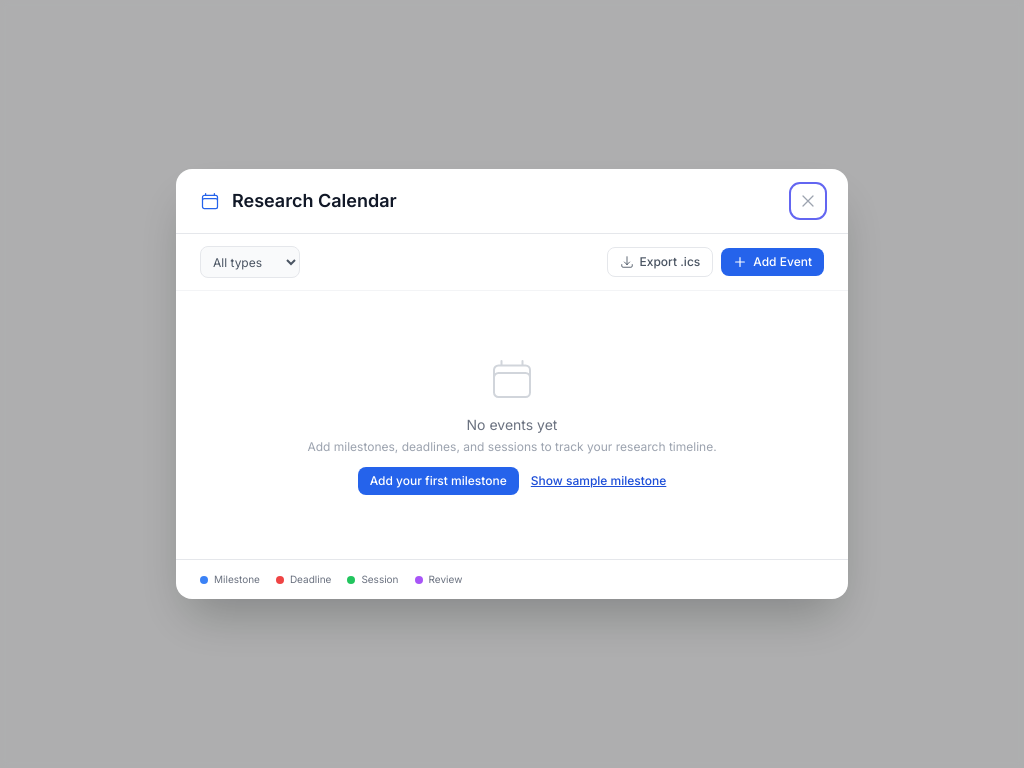
it: CalendarPanel first-run and recovery states › offers a milestone action and reversible unsaved sample when empty
Expected: the text "No events yet" is shown, [466,416,557,433]
Click the button "Show sample milestone" at coordinates (599, 481), box [531,473,666,489]
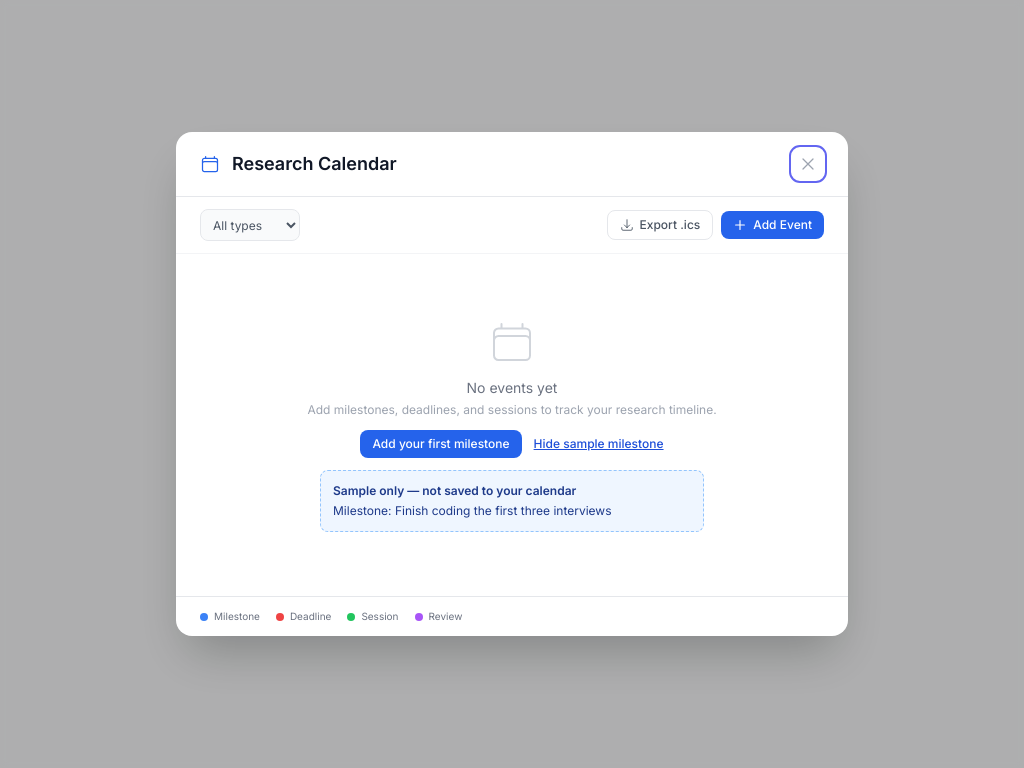
Now the text "Sample only — not saved to your calendar" is shown, box [333,483,576,498]
Click the button "Hide sample milestone" at coordinates (599, 444), box [534,436,664,452]
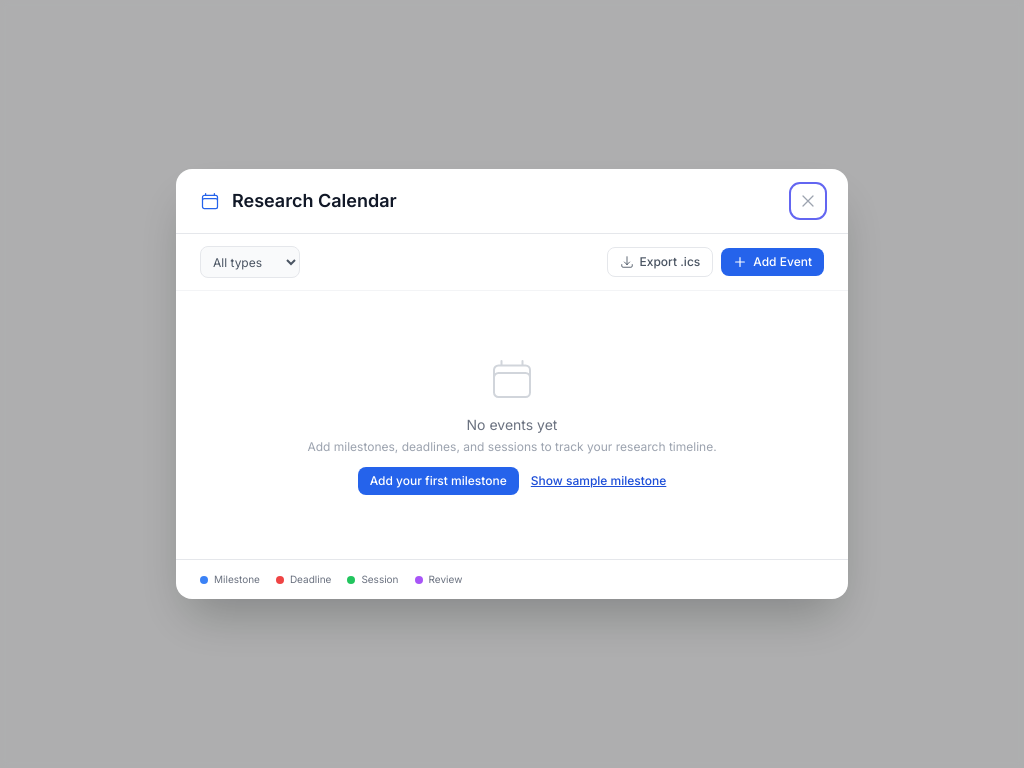
Now the text "Sample only — not saved to your calendar" is gone
Click the button "Add your first milestone" at coordinates (438, 481), box [358,467,519,495]
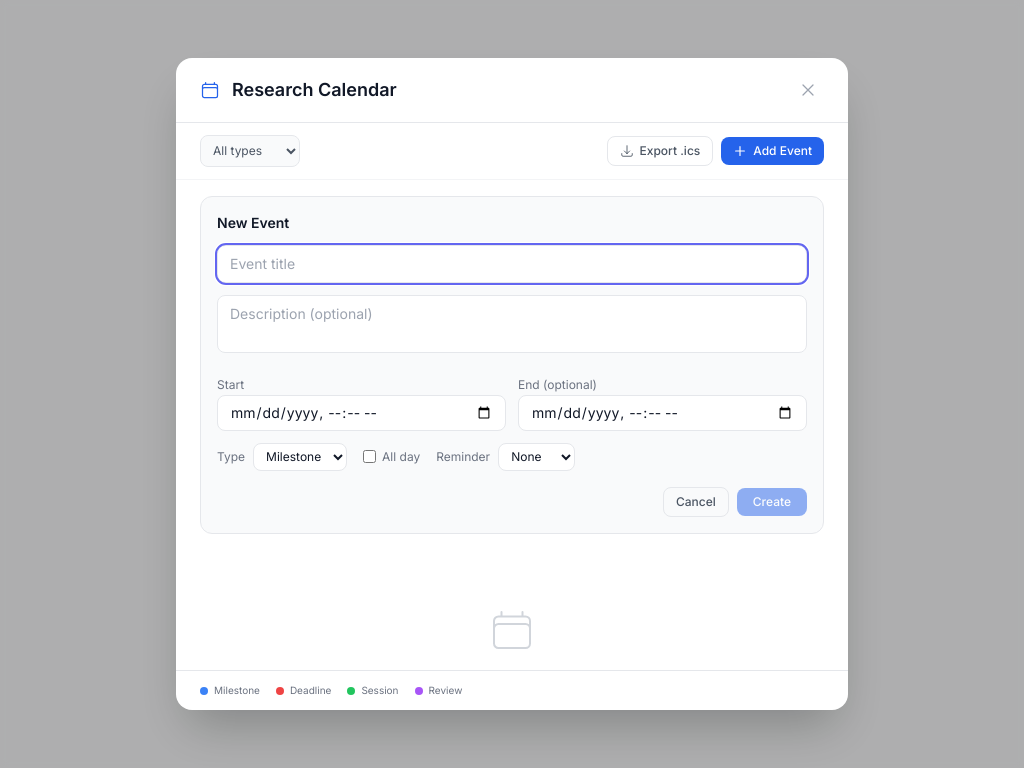
Now the field with placeholder "Event title" is shown, box [217,245,807,283]
